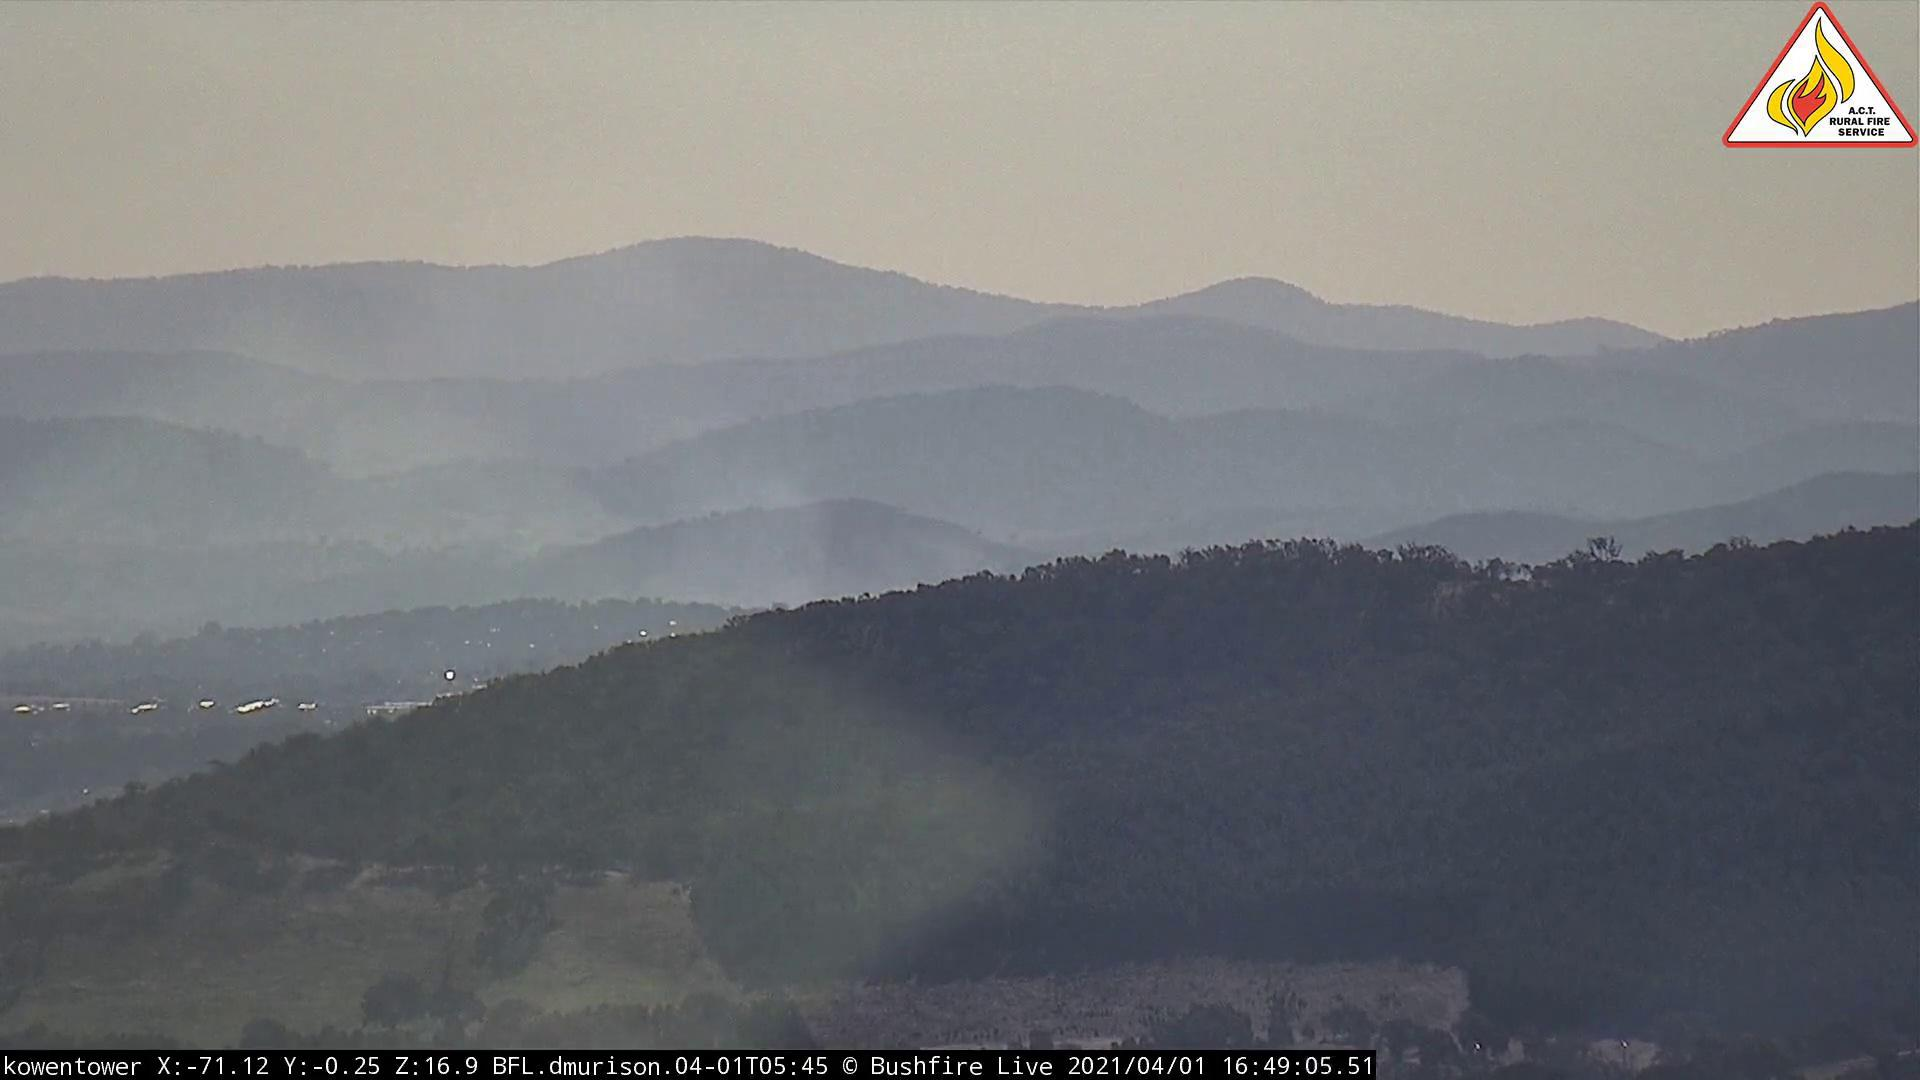Smoke: (483, 241, 901, 633)
